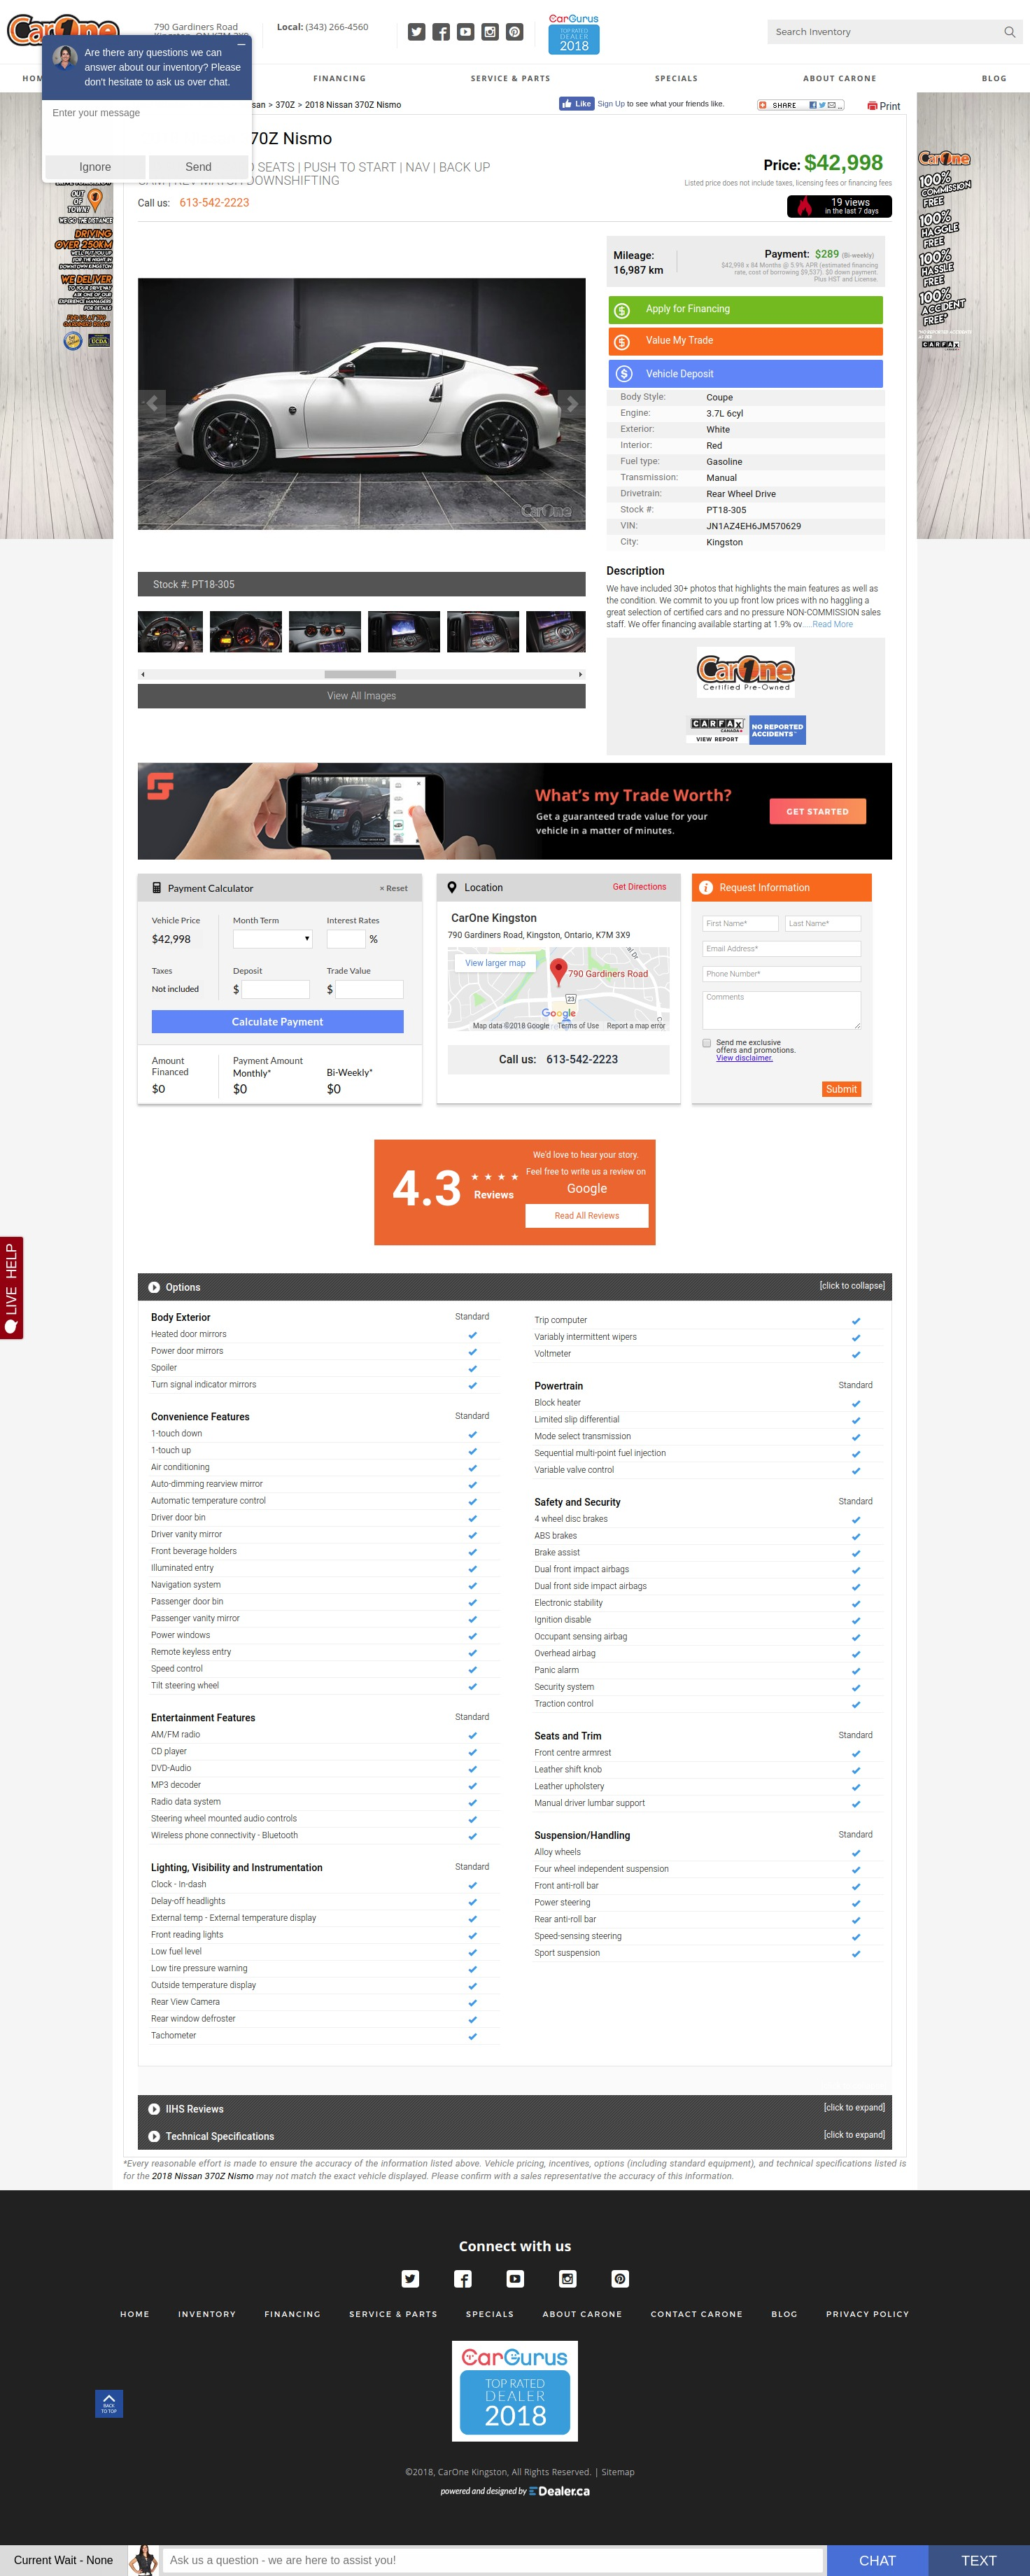car: (578, 672, 583, 678)
